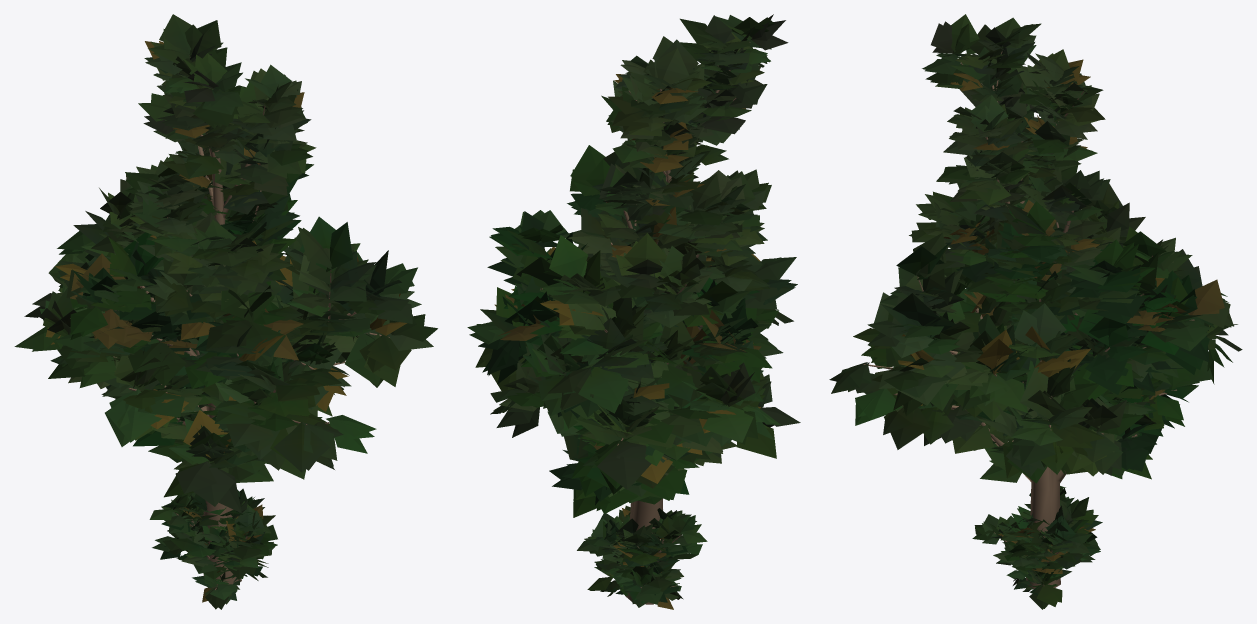
The model's file is plants_far.glb.
3 renders of one model, left to right at view 1: azimuth 30°, elevation 25°; view 2: azimuth 150°, elevation 25°; view 3: azimuth 270°, elevation 25°, orthographic. The views are drawn at different scales.
Parts seen in each view (by area): view 1: TreeFarALeaves, TreeFarCLeaves, TreeFarBLeaves, BushFarLeaves, TreeFarCBark, TreeFarBBark; view 2: TreeFarCLeaves, TreeFarALeaves, TreeFarBLeaves, BushFarLeaves, TreeFarBBark; view 3: TreeFarALeaves, TreeFarCLeaves, TreeFarBLeaves, BushFarLeaves, TreeFarABark, TreeFarBBark.
Part boxes in pixels (x1,y1,x2,y2): TreeFarALeaves: (14,156,437,513); TreeFarCLeaves: (91,14,316,358); TreeFarBLeaves: (66,163,341,462); BushFarLeaves: (149,488,277,609); TreeFarCBark: (167,55,265,418); TreeFarBBark: (115,190,261,588); TreeFarCLeaves: (562,14,788,327); TreeFarALeaves: (475,175,800,503); TreeFarBLeaves: (467,145,772,517); BushFarLeaves: (577,505,707,609); TreeFarBBark: (540,200,702,604); TreeFarALeaves: (829,226,1242,483); TreeFarCLeaves: (909,14,1145,340); TreeFarBLeaves: (944,177,1224,479); BushFarLeaves: (972,486,1102,609); TreeFarABark: (863,255,1152,559); TreeFarBBark: (975,293,1194,588).
Size of the model in its own units: 4.34 by 7.57 by 5.16.
